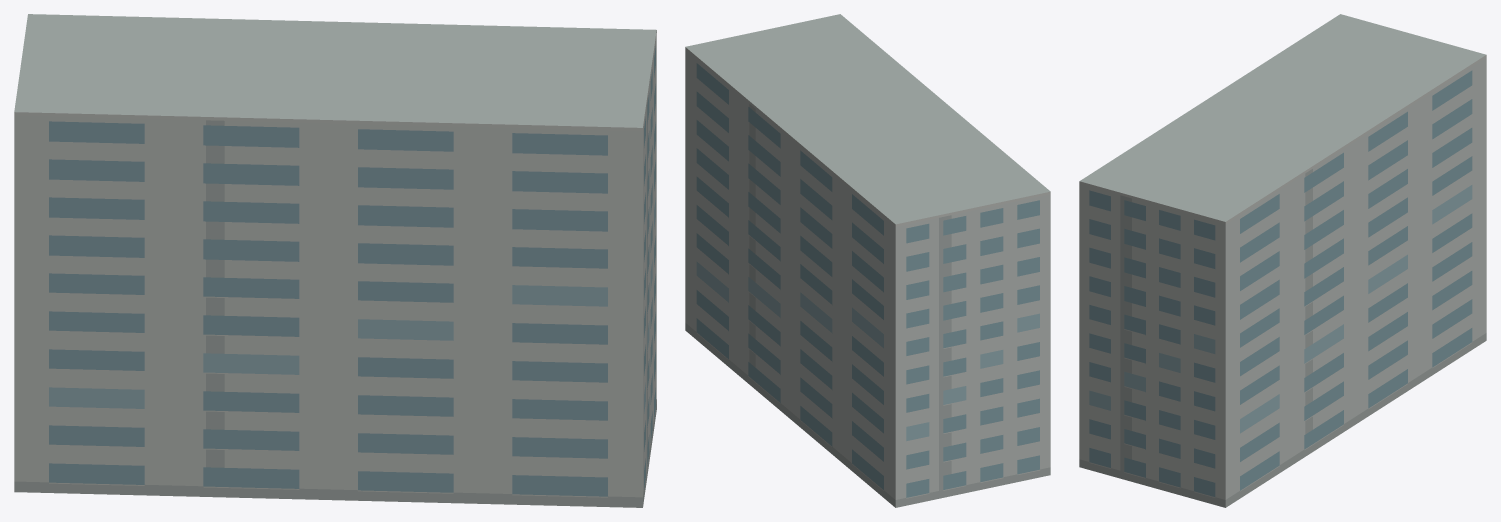
The model's file is residential-08788408-0d9f-47d3-84ac-09ea31e8bea3.glb.
3 renders of one model, left to right at view 1: azimuth 30°, elevation 25°; view 2: azimuth 150°, elevation 25°; view 3: azimuth 270°, elevation 25°, orthographic. The views are drawn at different scales.
Visible parts, largest first — view 1: residential-08788408-0d9f-47d3-84ac-09ea31e8bea3.tmp; view 2: residential-08788408-0d9f-47d3-84ac-09ea31e8bea3.tmp; view 3: residential-08788408-0d9f-47d3-84ac-09ea31e8bea3.tmp.
Part boxes in pixels (left/top/right/bottom): residential-08788408-0d9f-47d3-84ac-09ea31e8bea3.tmp: left=14, top=14, right=656, bottom=507; residential-08788408-0d9f-47d3-84ac-09ea31e8bea3.tmp: left=685, top=14, right=1050, bottom=507; residential-08788408-0d9f-47d3-84ac-09ea31e8bea3.tmp: left=1079, top=14, right=1486, bottom=507.
Size of the model in its own units: 42.11 by 27 by 34.84.
